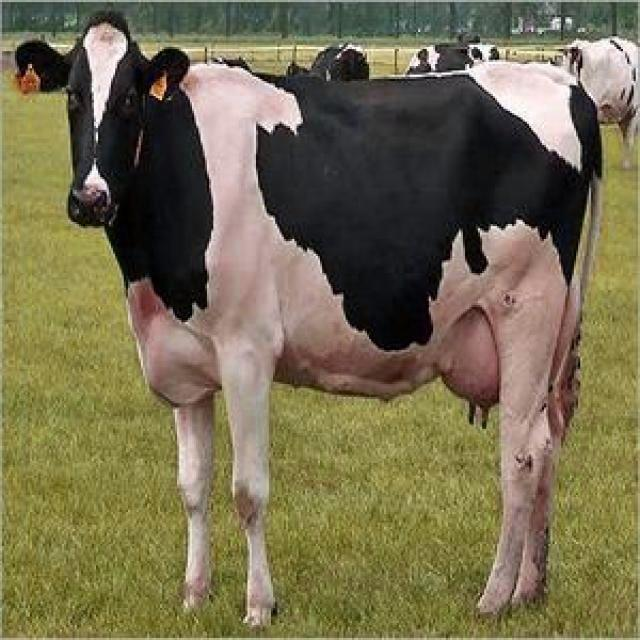cow: (18, 14, 601, 625)
